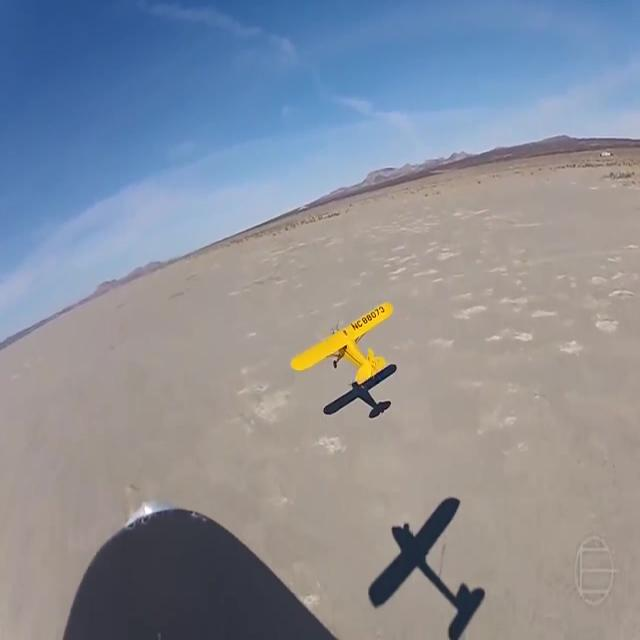iha: (323, 333, 361, 353)
